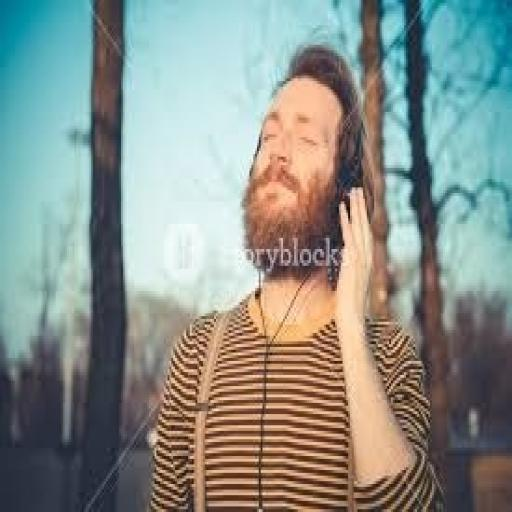listening_to_music: (143, 42, 447, 509)
